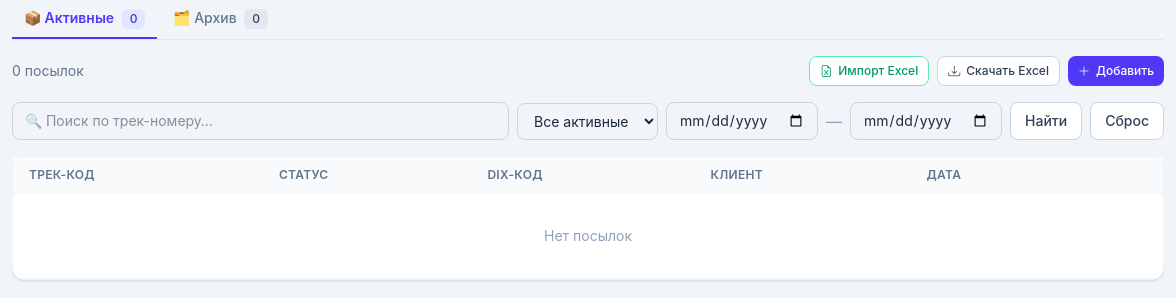
Test: PackagesListView › resets filters
Type "TRACK" into the field with placeholder "🔍 Поиск по трек-номеру…". click: (260, 121)
box: [12,102,509,140]
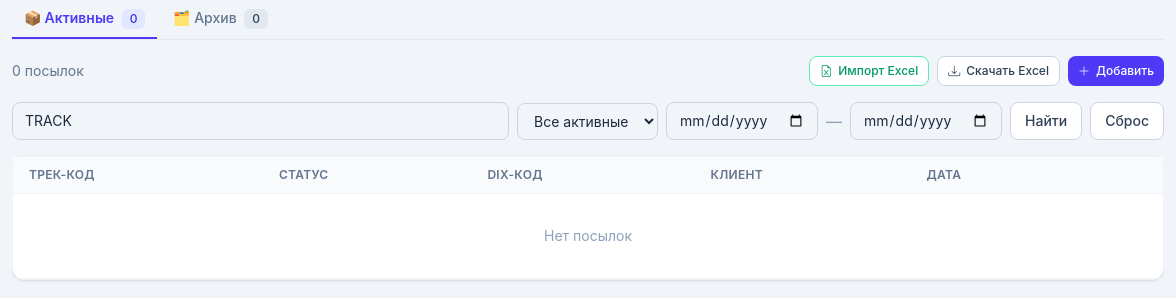
Click the button "Сброс". click: click(1127, 121)
box: [1090,102,1164,140]
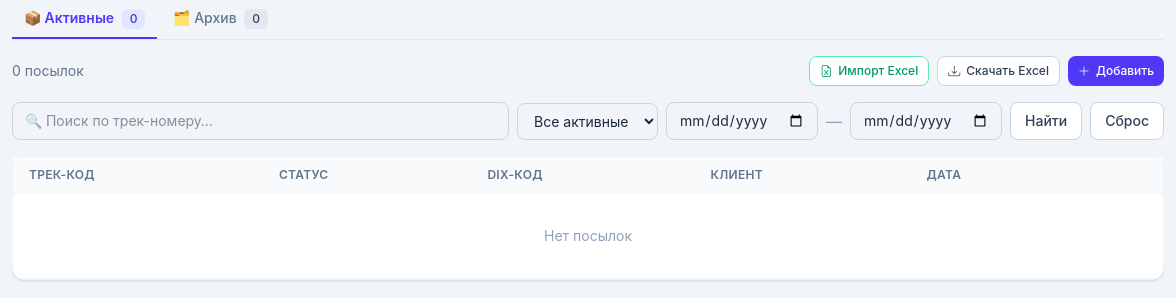
Now the field with placeholder "🔍 Поиск по трек-номеру…" is empty, box [12,102,509,140]
